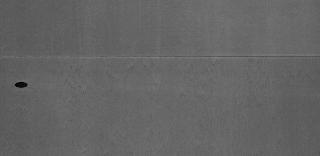punching hole: (13, 82, 29, 91)
silk spot: (56, 63, 312, 153)
welding line: (2, 51, 318, 61)
